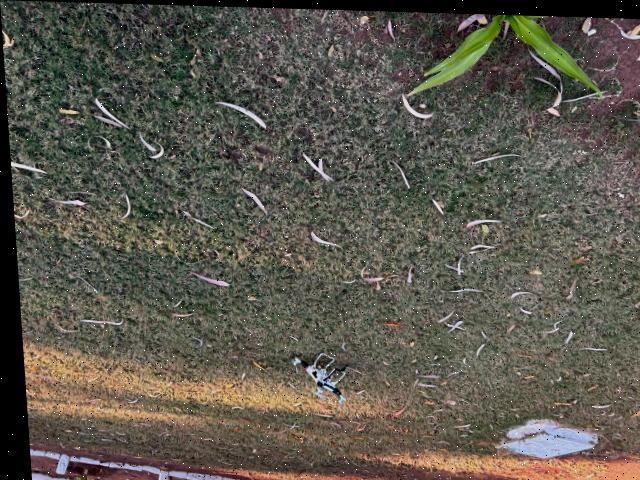drone: (273, 327, 379, 427)
